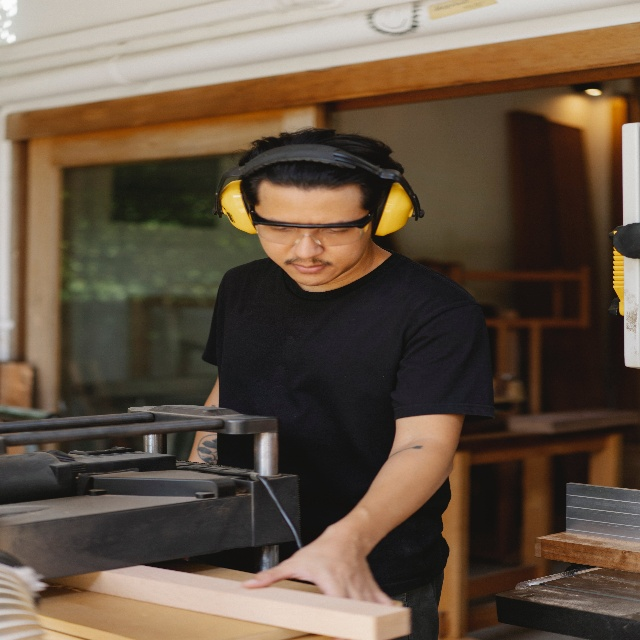Gafas: (248, 205, 372, 246)
Sin_guantes: (242, 526, 401, 606)
